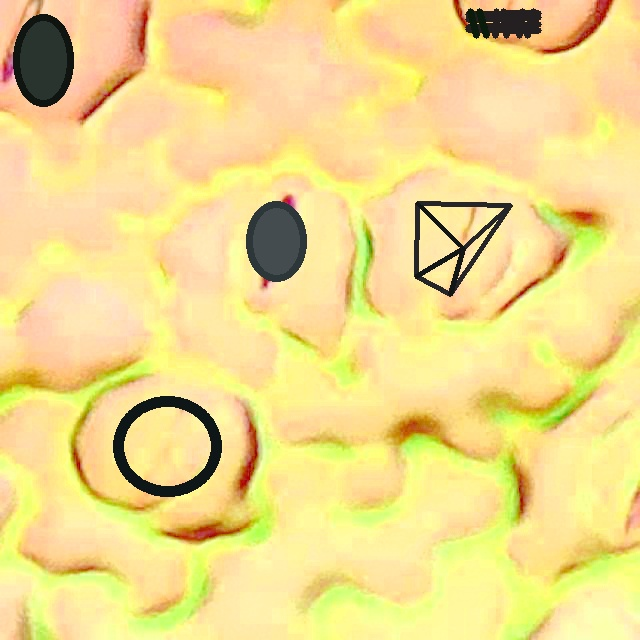close: (113, 396, 221, 497), (414, 201, 512, 296), (465, 8, 541, 38)
open: (13, 14, 73, 106), (246, 201, 306, 280)
